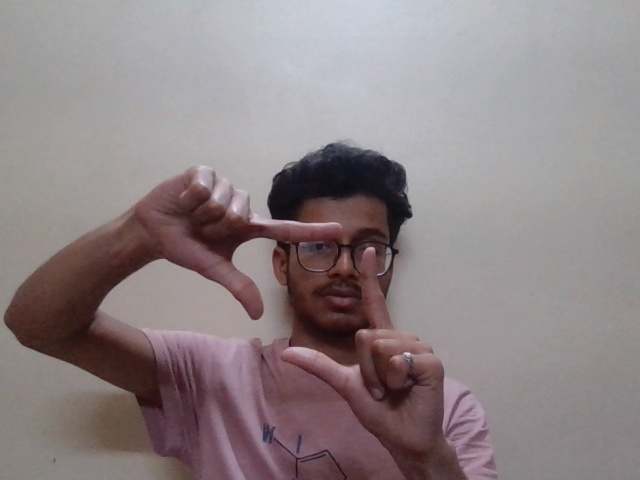video: (153, 161, 463, 429)
